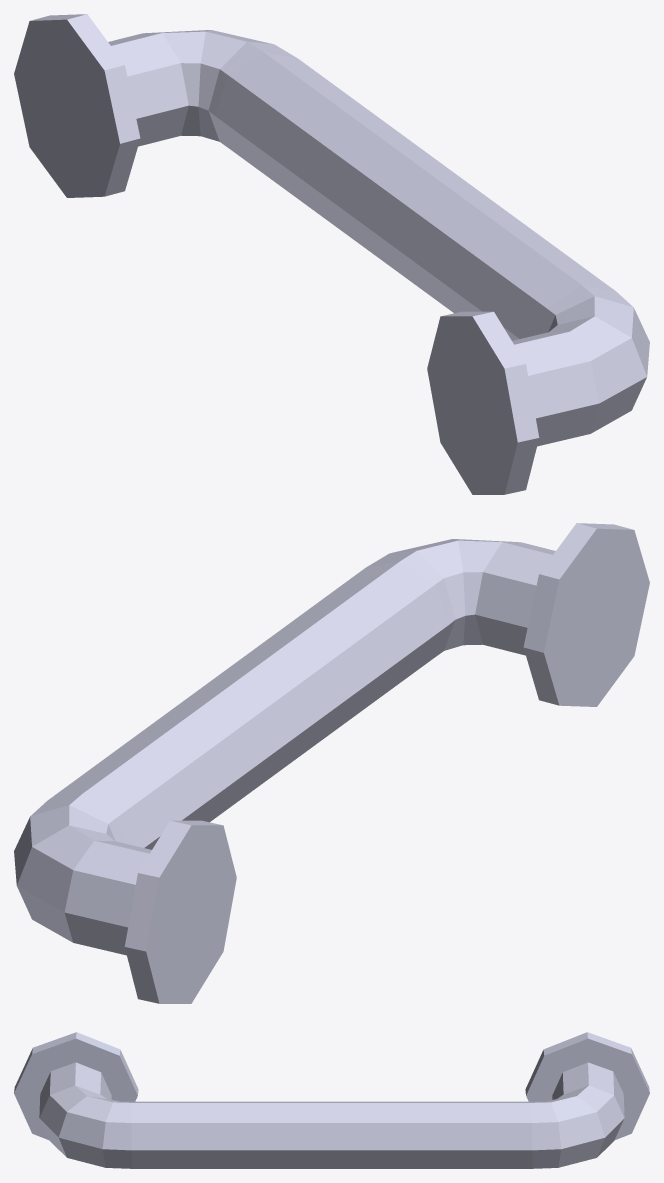
File: towelholder_small.fbx
3 renders of one model, top to bottom at view 1: azimuth 30°, elevation 25°; view 2: azimuth 150°, elevation 25°; view 3: azimuth 270°, elevation 25°, orthographic. The views are drawn at different scales.
Parts seen in each view (by area): view 1: Cylinder.029; view 2: Cylinder.029; view 3: Cylinder.029.
Part boxes in pixels (x1=…): Cylinder.029: x1=14, y1=14, x2=649, y2=494; Cylinder.029: x1=14, y1=523, x2=649, y2=1003; Cylinder.029: x1=14, y1=1032, x2=649, y2=1168.
Bounding box in the file's own units: 30.82 × 25.53 × 131.
